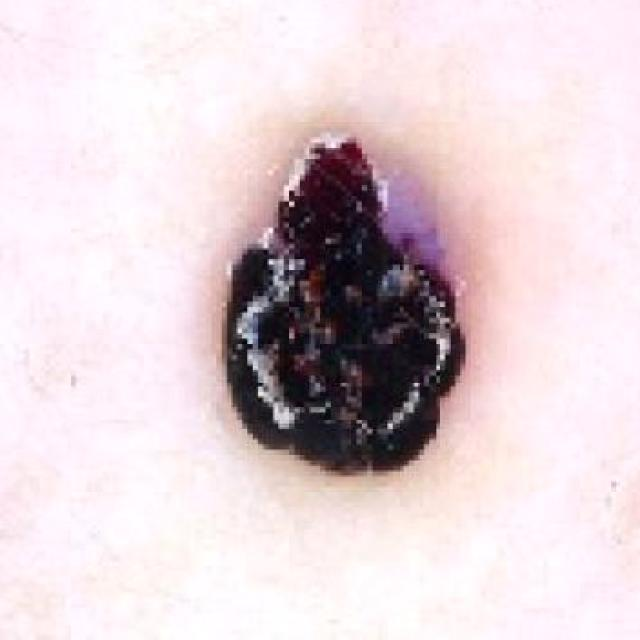VASC: (214, 39, 572, 546)
